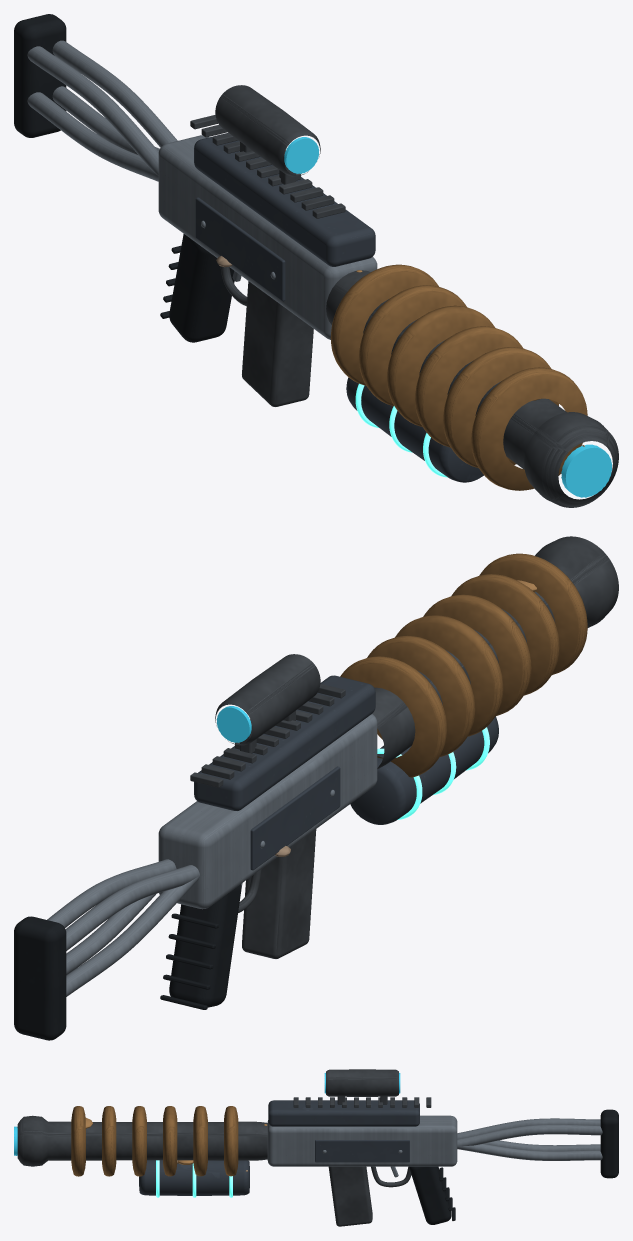
Rendered from beam-projector.glb.
3 views of the same model, one above another, from view 1: azimuth 30°, elevation 25°; view 2: azimuth 150°, elevation 25°; view 3: azimuth 270°, elevation 25° (orthographic). The views are drawn at different scales.
Parts seen in each view (by area): view 1: bronze / cast bronze with patina, darksteel / oil-blackened fittings, alloy / machined anodized alloy, ceramic / ceramic composite panel, polymer / stippled polymer, crystal / faceted crystal, energy / emissive field channel; view 2: bronze / cast bronze with patina, alloy / machined anodized alloy, darksteel / oil-blackened fittings, ceramic / ceramic composite panel, polymer / stippled polymer, crystal / faceted crystal, energy / emissive field channel; view 3: darksteel / oil-blackened fittings, alloy / machined anodized alloy, ceramic / ceramic composite panel, bronze / cast bronze with patina, polymer / stippled polymer, energy / emissive field channel.
Boxes of the visible parts, x1=… form: bronze / cast bronze with patina: x1=330, y1=264, x2=587, y2=490; darksteel / oil-blackened fittings: x1=190, y1=85, x2=618, y2=507; alloy / machined anodized alloy: x1=27, y1=40, x2=377, y2=339; ceramic / ceramic composite panel: x1=194, y1=132, x2=483, y2=482; polymer / stippled polymer: x1=14, y1=14, x2=234, y2=342; crystal / faceted crystal: x1=284, y1=137, x2=612, y2=497; energy / emissive field channel: x1=355, y1=383, x2=447, y2=477; bronze / cast bronze with patina: x1=340, y1=553, x2=587, y2=777; alloy / machined anodized alloy: x1=47, y1=714, x2=377, y2=996; darksteel / oil-blackened fittings: x1=190, y1=536, x2=618, y2=958; ceramic / ceramic composite panel: x1=194, y1=675, x2=498, y2=870; polymer / stippled polymer: x1=14, y1=884, x2=241, y2=1040; crystal / faceted crystal: x1=216, y1=706, x2=251, y2=742; energy / emissive field channel: x1=377, y1=727, x2=489, y2=819; darksteel / oil-blackened fittings: x1=17, y1=1069, x2=431, y2=1226; alloy / machined anodized alloy: x1=267, y1=1115, x2=602, y2=1177; ceramic / ceramic composite panel: x1=139, y1=1100, x2=419, y2=1195; bronze / cast bronze with patina: x1=71, y1=1106, x2=238, y2=1176; polymer / stippled polymer: x1=409, y1=1109, x2=618, y2=1224; energy / emissive field channel: x1=156, y1=1160, x2=232, y2=1197.
Bounding box in the file's own units: 0.116 × 0.2751 × 0.9918.
10 materials, 5 textured.
